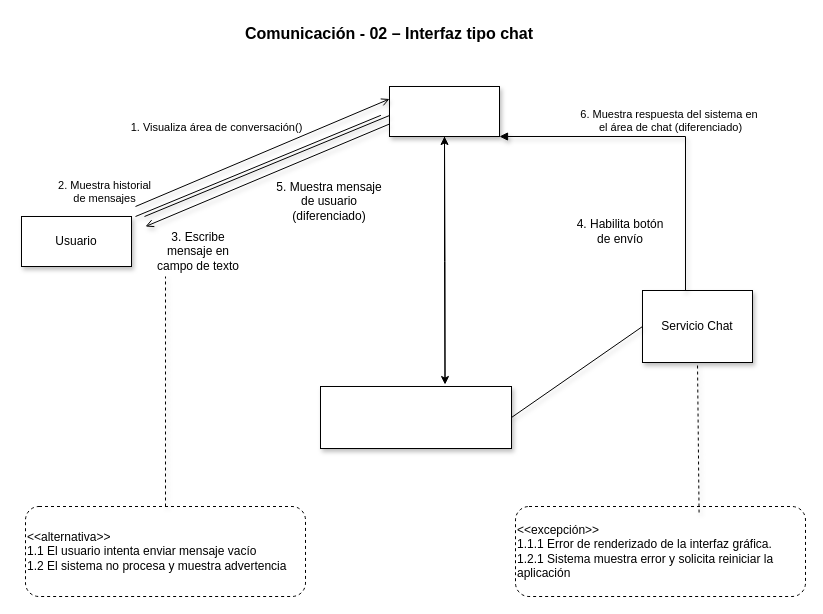
This 823x614 diagram has some shape labels left out. Each missing label, with the centre of its shape:
"Controlador Chat" belongs at (x=417, y=419).
"Interfaz Chat" belongs at (x=445, y=113).
